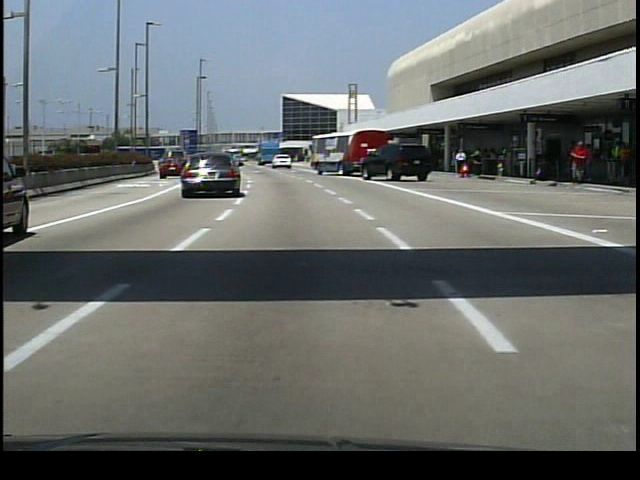person: (566, 140, 592, 188), (455, 149, 471, 182)
